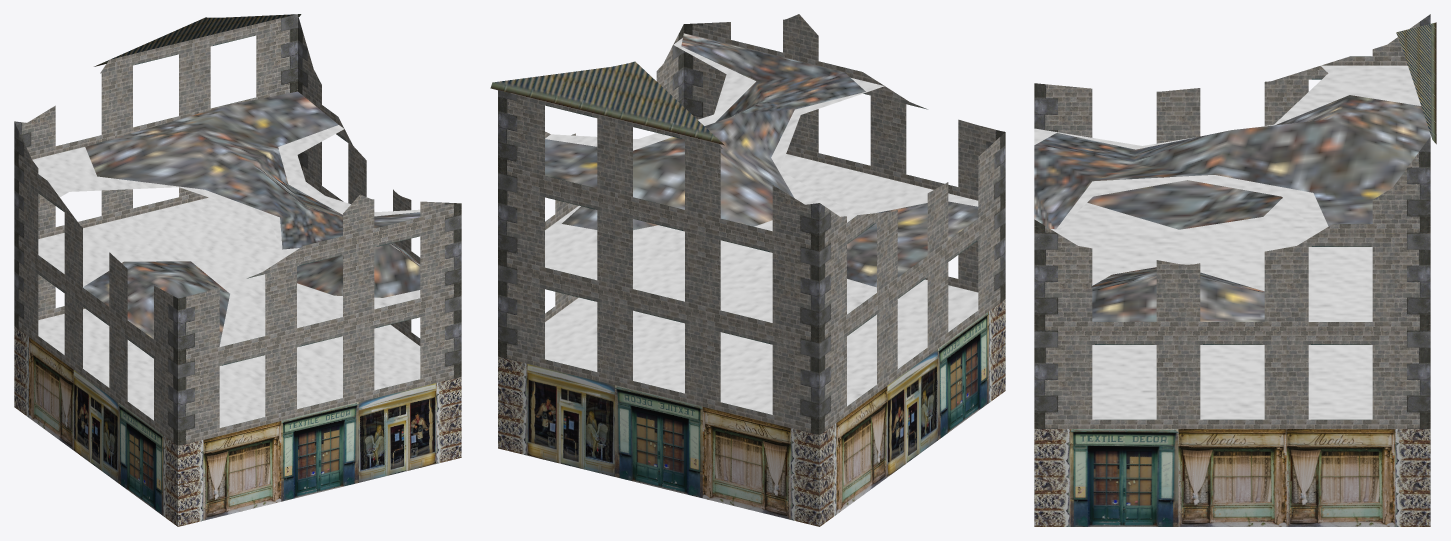
File: House_007_destroyed_002.dae
3 views of the same model, side by side, from view 1: azimuth 30°, elevation 25°; view 2: azimuth 150°, elevation 25°; view 3: azimuth 270°, elevation 25° (orthographic). The views are drawn at different scales.
Parts seen in each view (by area): view 1: House_007; view 2: House_007; view 3: House_007.
Boxes of the visible parts, box(x1,y1,x2,y2) form: House_007: box(14, 14, 461, 526); House_007: box(490, 14, 1005, 526); House_007: box(1034, 14, 1436, 526).
Size of the model in its own units: 89.32 by 89.32 by 106.
1 material, 1 textured.
